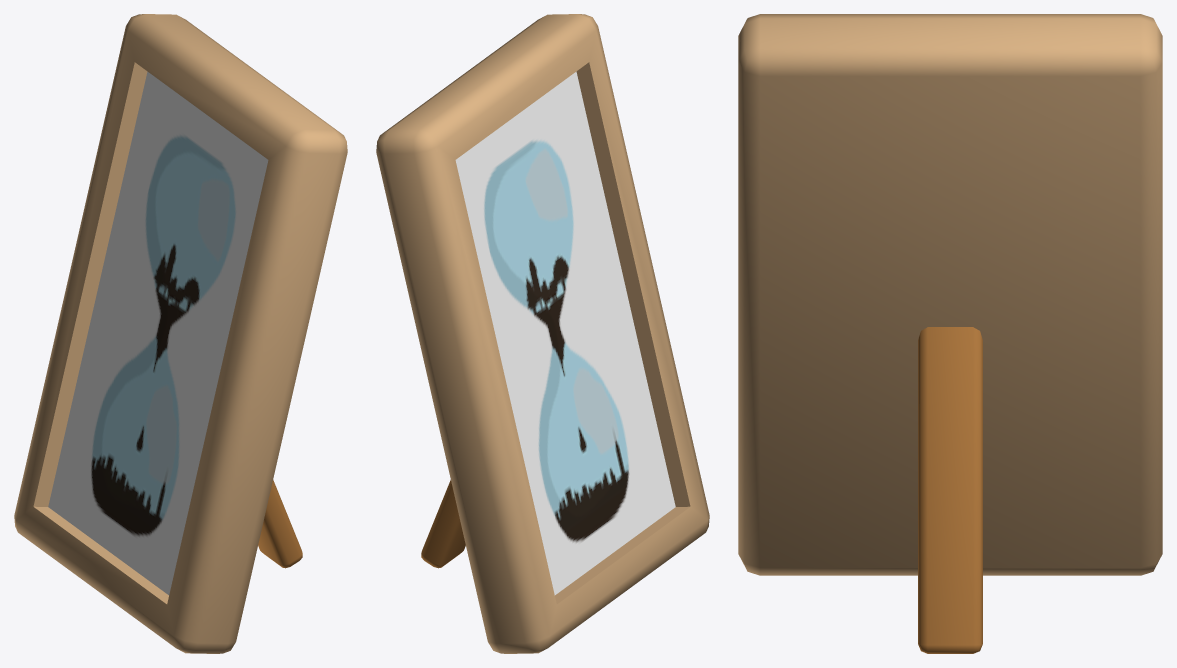
File: Frame05.fbx
3 renders of one model, left to right at view 1: azimuth 30°, elevation 25°; view 2: azimuth 150°, elevation 25°; view 3: azimuth 270°, elevation 25°, orthographic. The views are drawn at different scales.
Visible parts, largest first — view 1: Frame05; view 2: Frame05; view 3: Frame05.
Part boxes in pixels (x1,y1,x2,y2): Frame05: (14,14,347,653); Frame05: (376,14,709,653); Frame05: (738,14,1162,653).
Size of the model in its own units: 0.0392 by 0.0607 by 0.0954.
